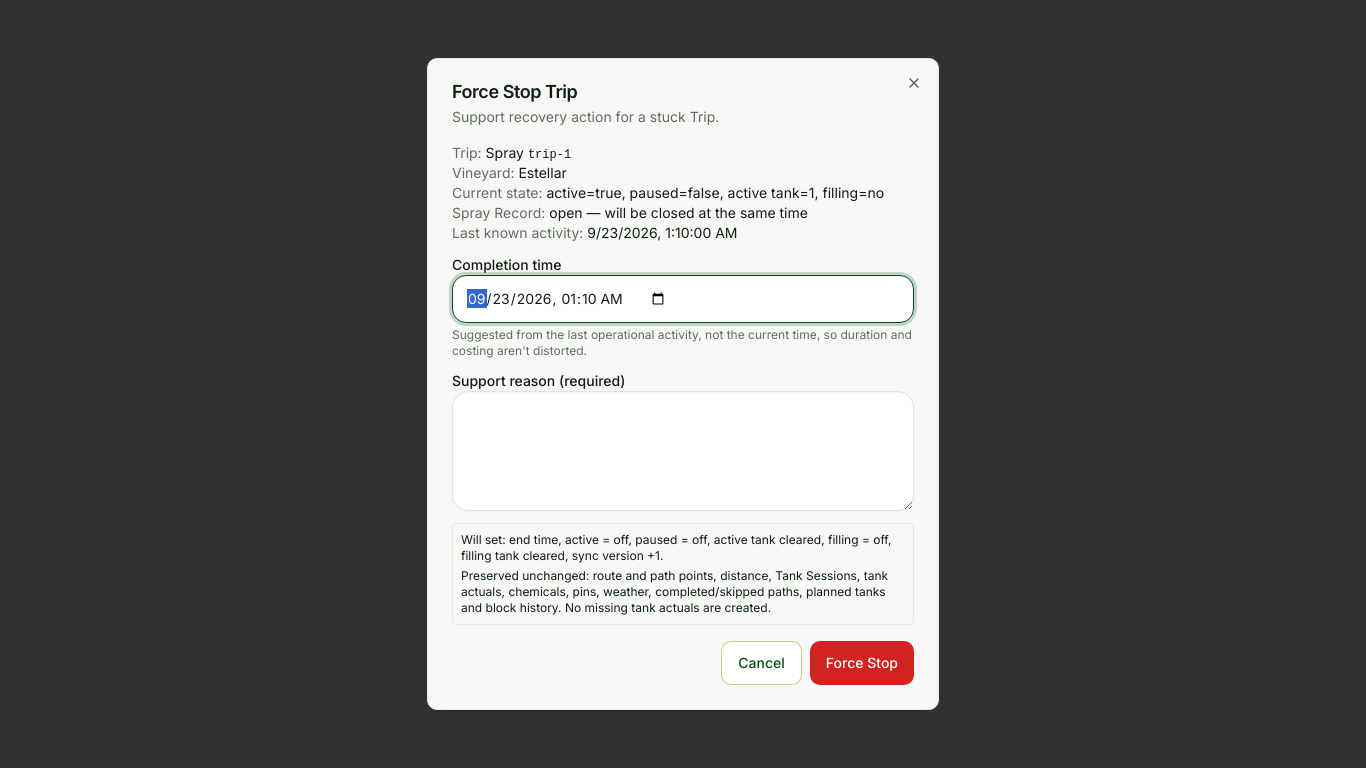
Test: Admin Trips — Force Stop dialog › repeated Force Stop reports already completed safely
The width and height of the screenshot is (1366, 768).
Type "again" into the text box labelled "Support reason (required)" at (683, 451), box [452, 391, 914, 511]
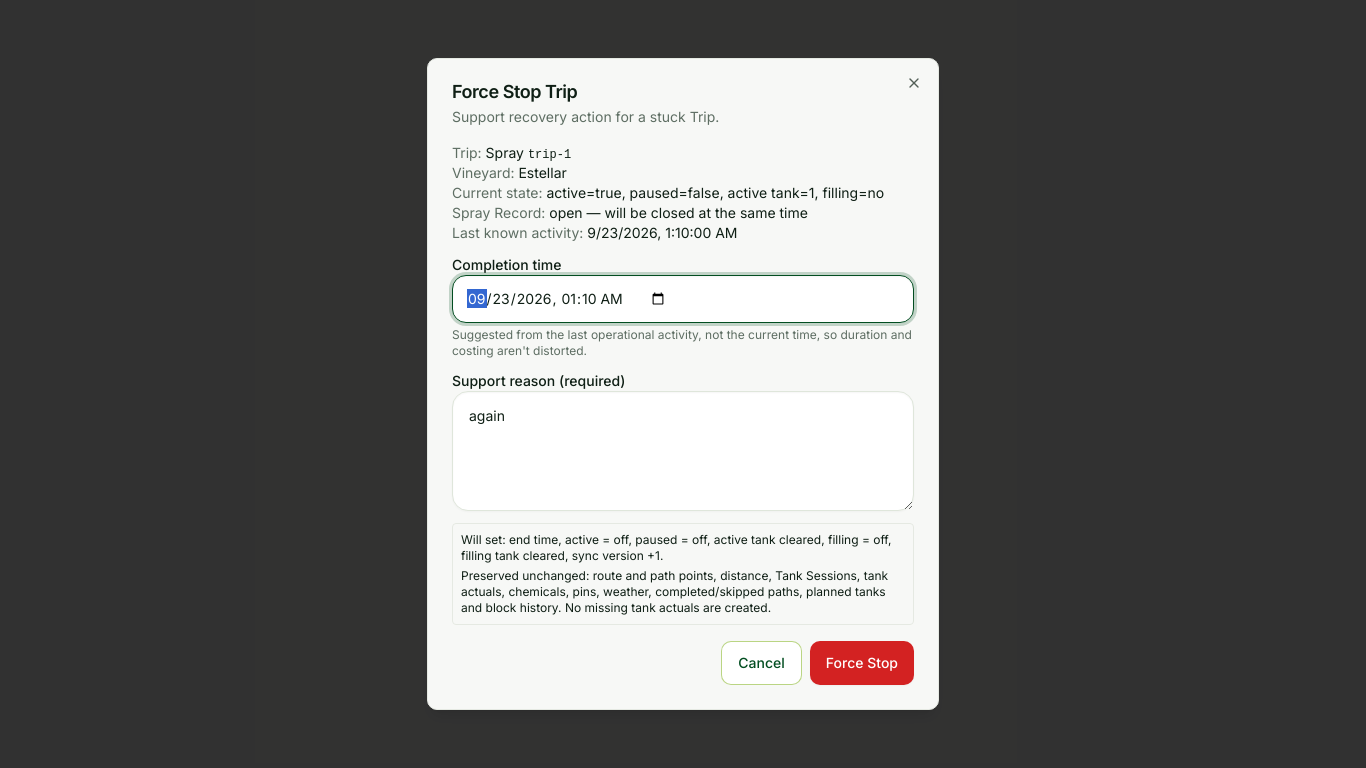
Click the button "Force Stop" at (862, 663), box [810, 641, 914, 685]
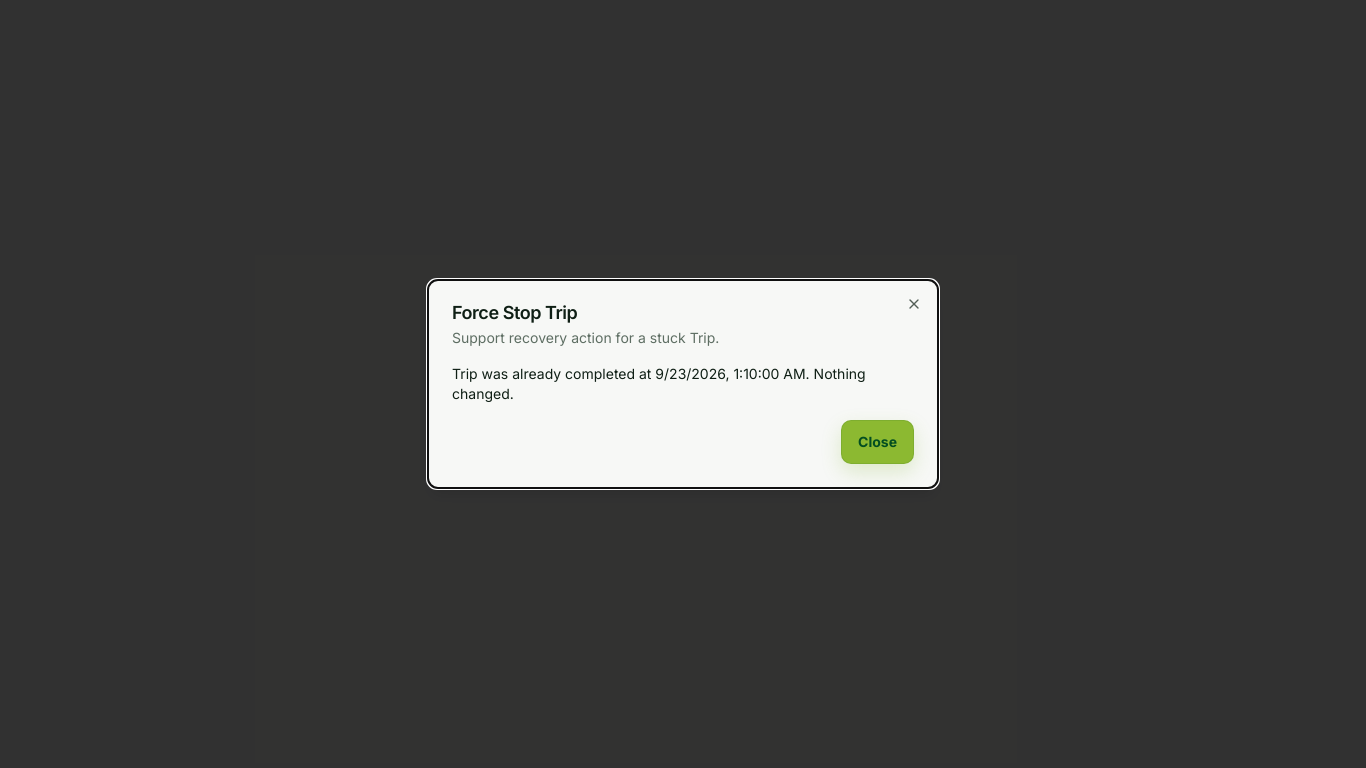
Check: the text "already completed" is shown, box [452, 365, 866, 402]
